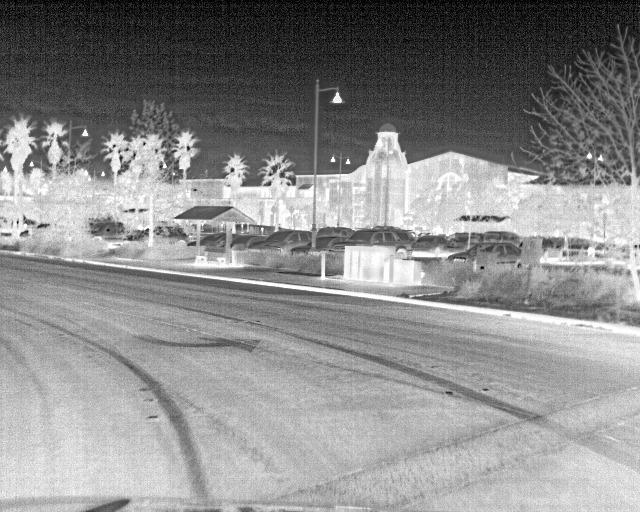car: (326, 228, 412, 259), (248, 229, 310, 255), (450, 244, 521, 259), (89, 221, 126, 248), (152, 224, 190, 248), (315, 227, 355, 249), (412, 236, 450, 257), (227, 235, 267, 253), (481, 230, 521, 247), (198, 232, 230, 247)
